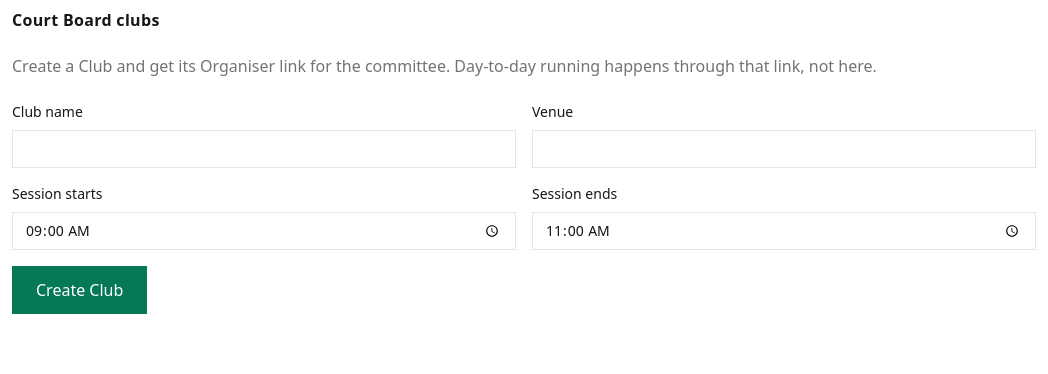
Scenario: CourtBoardClubsPanel › shows the unauthorised failure and no link
In the field labelled "Club name": (264, 149) [12,130,516,168], type "Lunchtime Badminton"
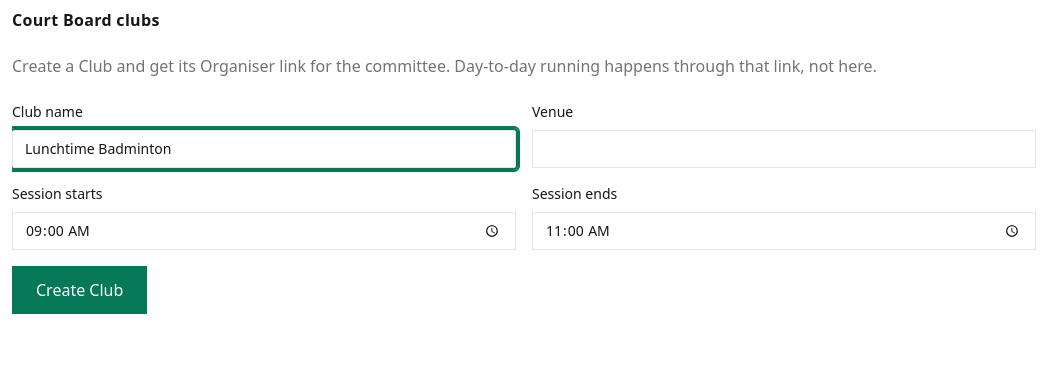
In the field labelled "Venue": (784, 149) [532,130,1036,168], type "Sports hall"
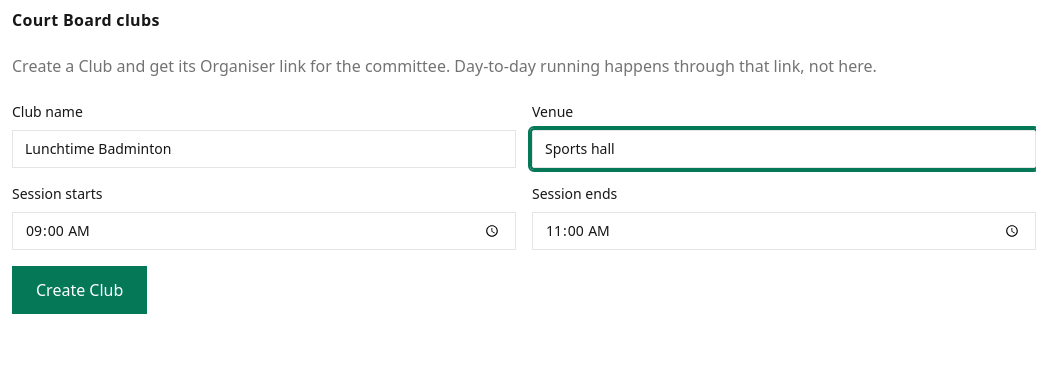
Click the button "Create Club": (80, 290) [12,266,147,314]
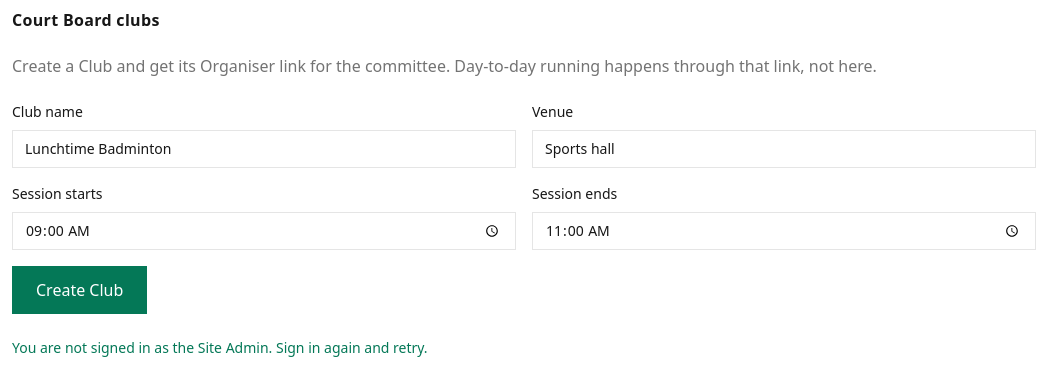
Check: the message reads "You are not signed in as the Site Admin. Sign in again and retry.", box [12,338,428,357]
